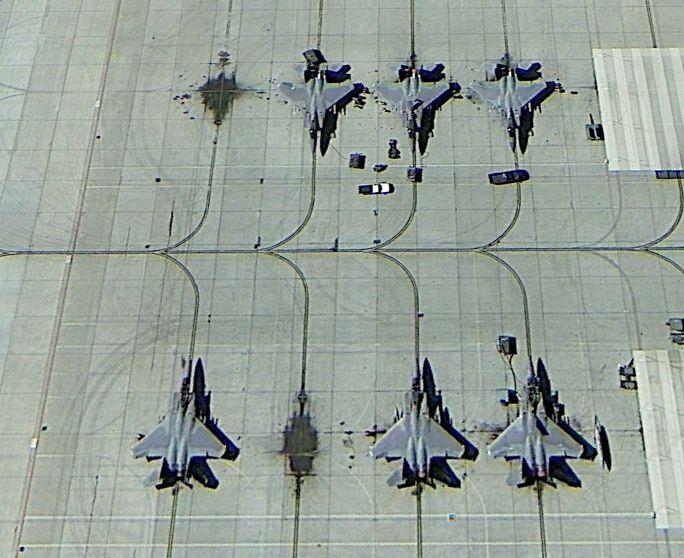F-15: (487, 351, 593, 492), (371, 355, 473, 494), (131, 358, 230, 489), (373, 55, 458, 163), (469, 55, 554, 159), (279, 54, 360, 156)
